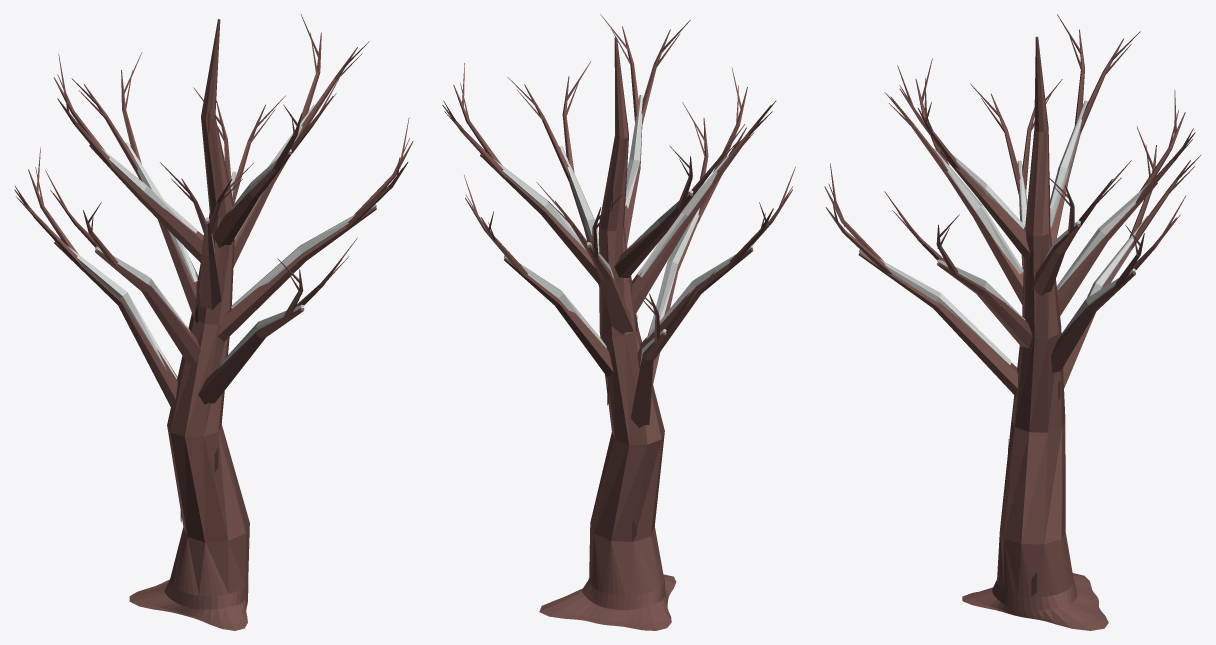
The model's file is cherry_wild_winter.glb.
3 views of the same model, side by side, from view 1: azimuth 30°, elevation 25°; view 2: azimuth 150°, elevation 25°; view 3: azimuth 270°, elevation 25° (orthographic). The views are drawn at different scales.
Parts seen in each view (by area): view 1: branches, snow; view 2: branches, snow; view 3: branches, snow.
Boxes of the visible parts, x1,y1,x2,y2 form: branches: [14, 14, 413, 630]; snow: [54, 104, 376, 378]; branches: [442, 14, 795, 630]; snow: [480, 95, 753, 365]; branches: [824, 14, 1201, 630]; snow: [859, 100, 1150, 365].
Bounding box in the file's own units: 2.49 × 4.33 × 2.6.
